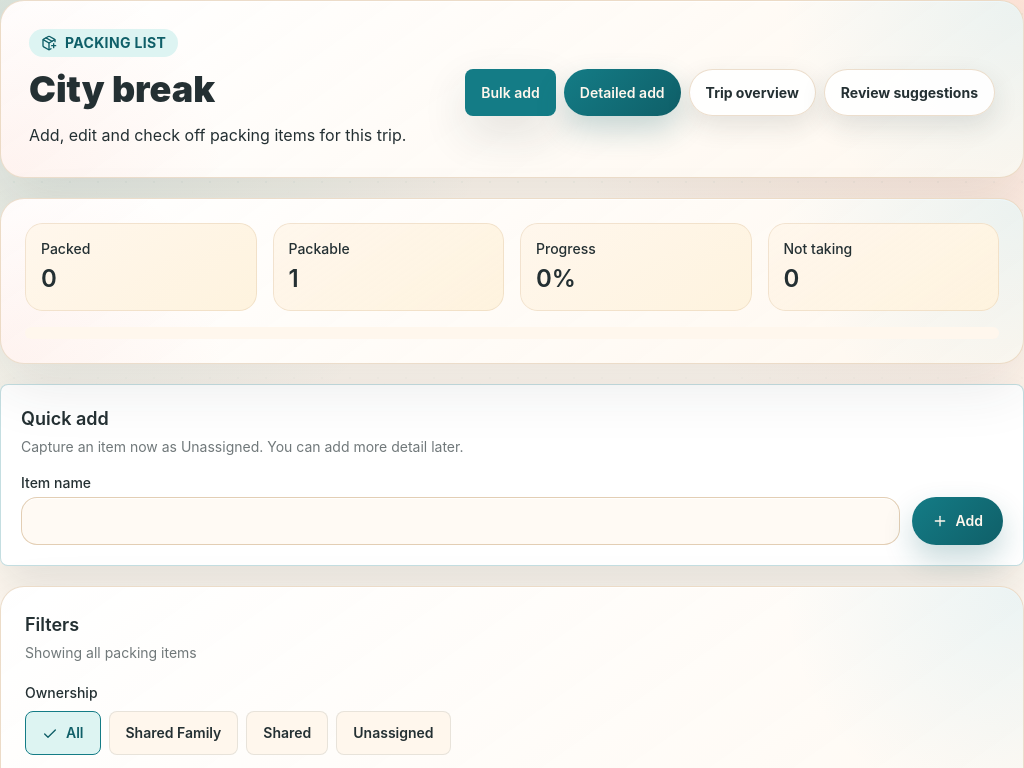
Test: PackingListScreen › defaults duplicate bulk rows to skipped
This screenshot has width=1024, height=768.
Click the button "Bulk add" at (511, 92), box [465,69,556,116]
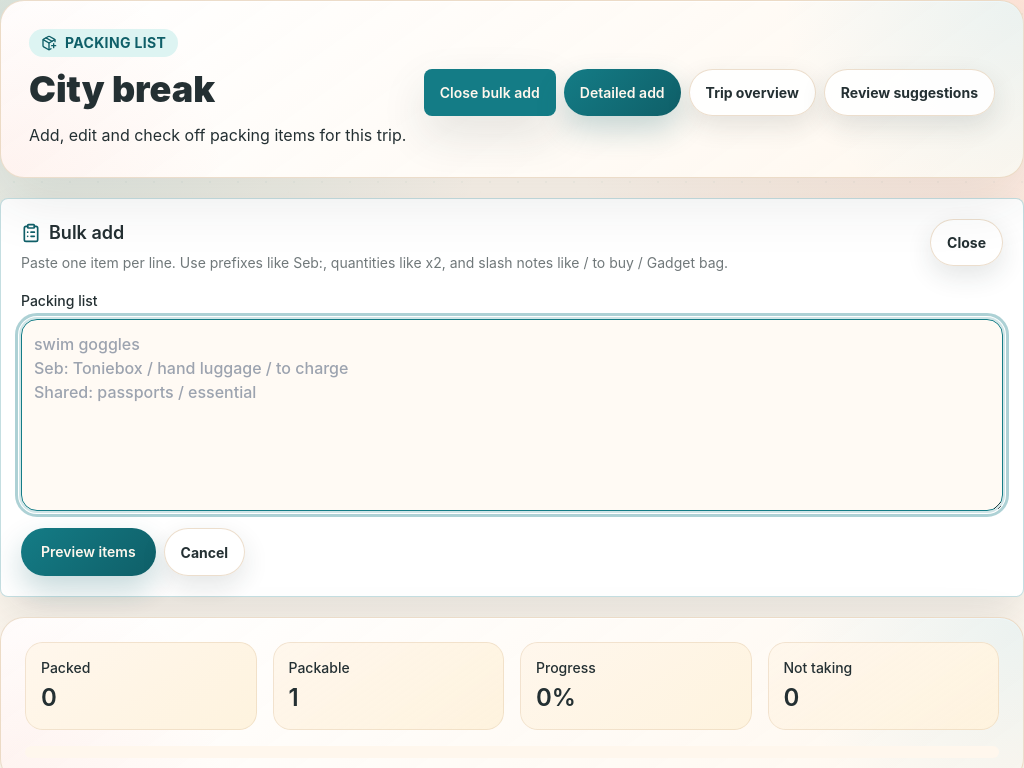
Type "Shared Family: Passport" into the text box labelled "Packing list" at (512, 415), box [21,319,1003,511]
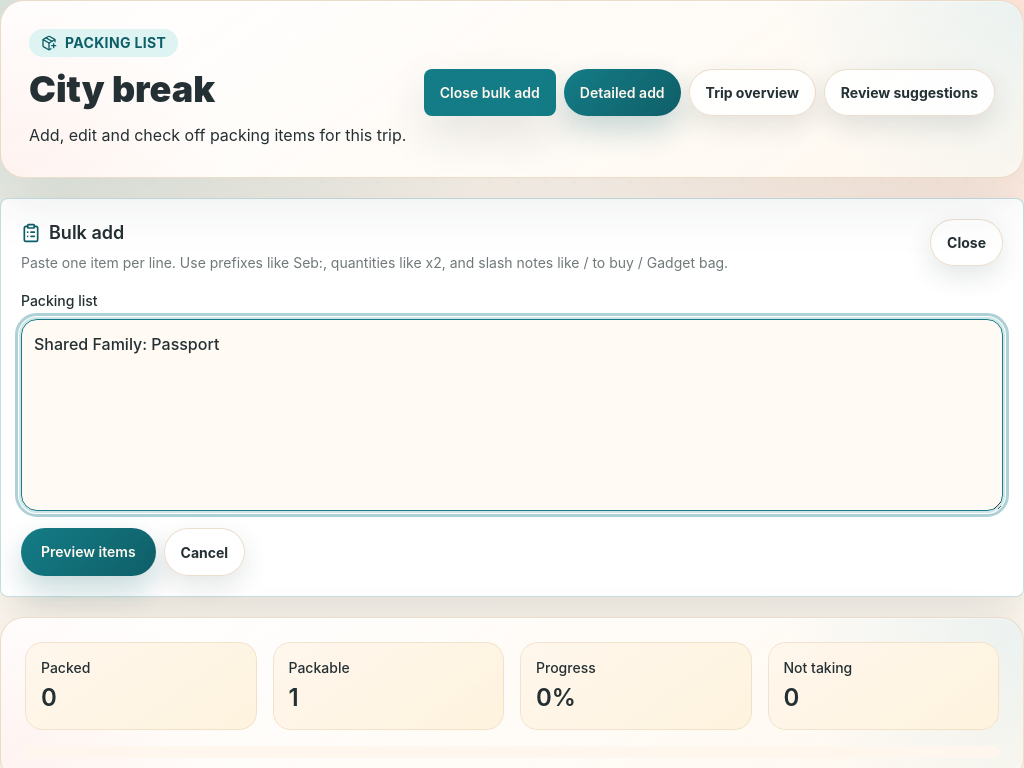
Click the button "Preview items" at (88, 552), box [21,528,156,576]
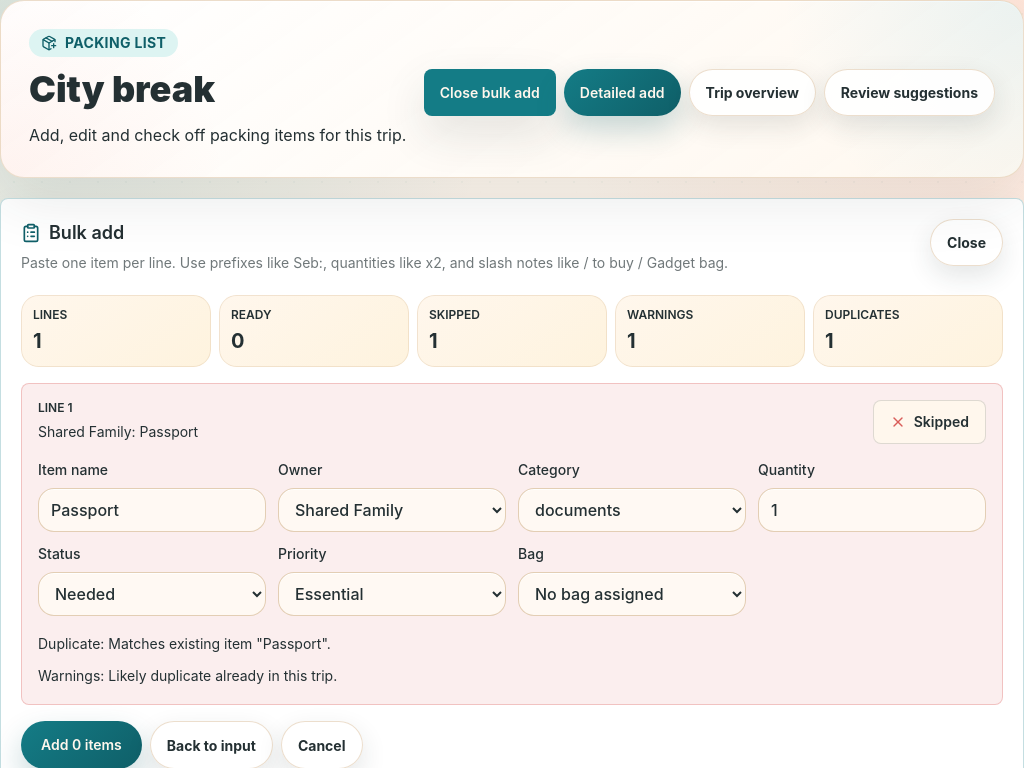
Now the text "Duplicate: Matches existing item \"Passport\"." is shown, box [38,635,331,652]
Now the button "Skipped" is shown, box [873,400,986,444]
Now the button "Add 0 items" is shown, box [21,721,142,767]
